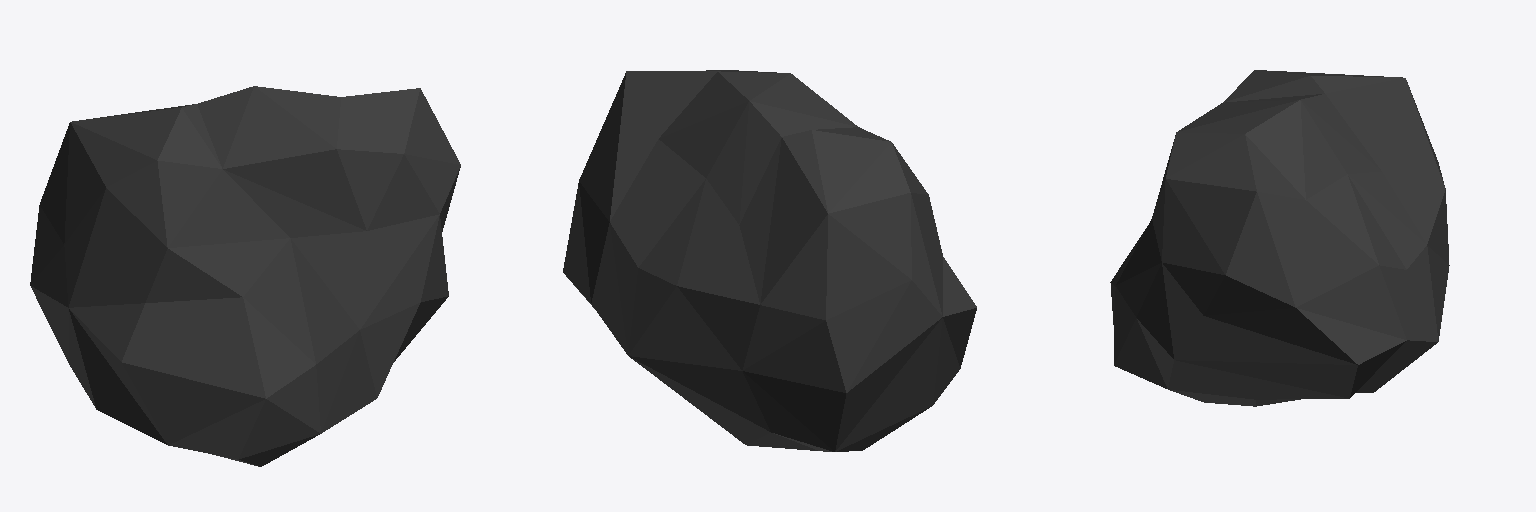
File: Ast1.obj
The picture shows the model from 3 angles: view 1: azimuth 30°, elevation 25°; view 2: azimuth 150°, elevation 25°; view 3: azimuth 270°, elevation 25°; orthographic projection.
Parts seen in each view (by area): view 1: Asteroid_1; view 2: Asteroid_1; view 3: Asteroid_1.
Boxes of the visible parts, <box> form: Asteroid_1: <box>30,86,460,466</box>; Asteroid_1: <box>563,70,976,451</box>; Asteroid_1: <box>1110,70,1449,406</box>.
Bounding box in the file's own units: 88.03 × 74.47 × 71.33.